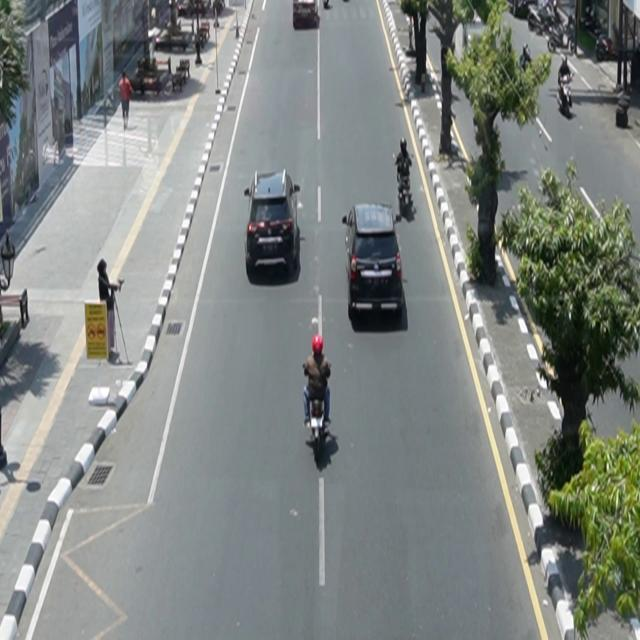car: (342, 202, 405, 321), (245, 169, 302, 275), (293, 1, 321, 30)
